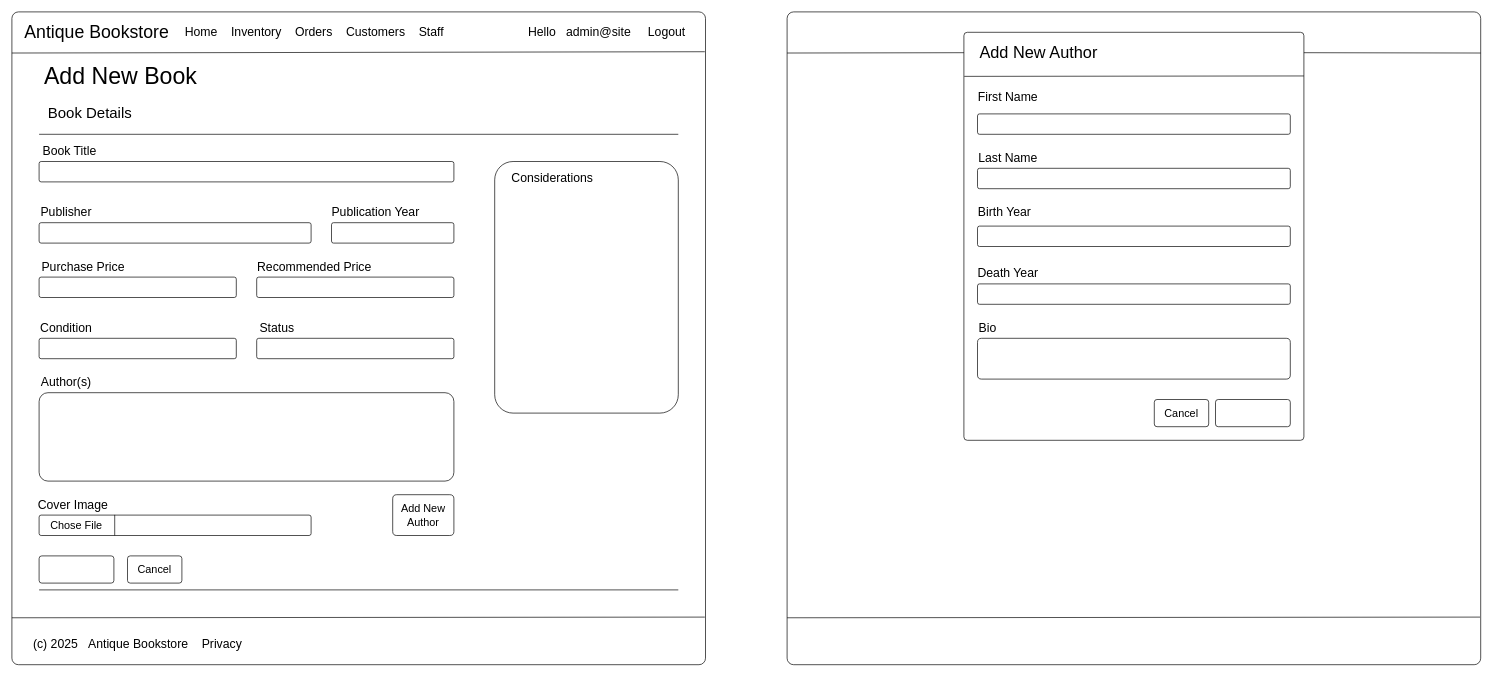
Some shapes in this 1493 by 677 pixel diagram are drawn without their labels. The centre of each missing label's shape, as x and y in pixels:
Create Book: pixel 76 569
Save Author: pixel 1252 413
